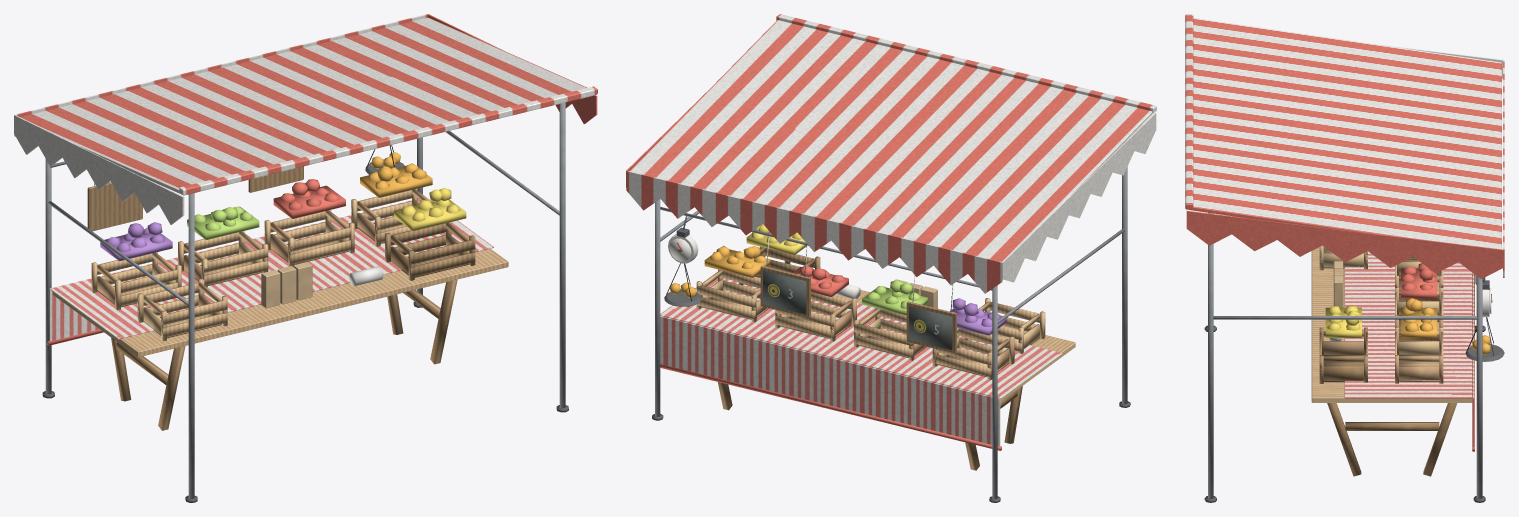
The model's file is Feira_StallRed.fbx.
The picture shows the model from 3 angles, left to right: view 1: azimuth 30°, elevation 25°; view 2: azimuth 150°, elevation 25°; view 3: azimuth 270°, elevation 25°; orthographic projection. The views are drawn at different scales.
Parts seen in each view (by area): view 1: Feira_StallRed; view 2: Feira_StallRed; view 3: Feira_StallRed.
Part boxes in pixels (bbox=[...]): Feira_StallRed: bbox=[14, 14, 597, 502]; Feira_StallRed: bbox=[626, 14, 1156, 502]; Feira_StallRed: bbox=[1185, 14, 1504, 502].
Size of the model in its own units: 3.36 by 2.52 by 2.38.
1 material, 1 textured.
